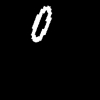chain: (31, 6, 51, 41)
